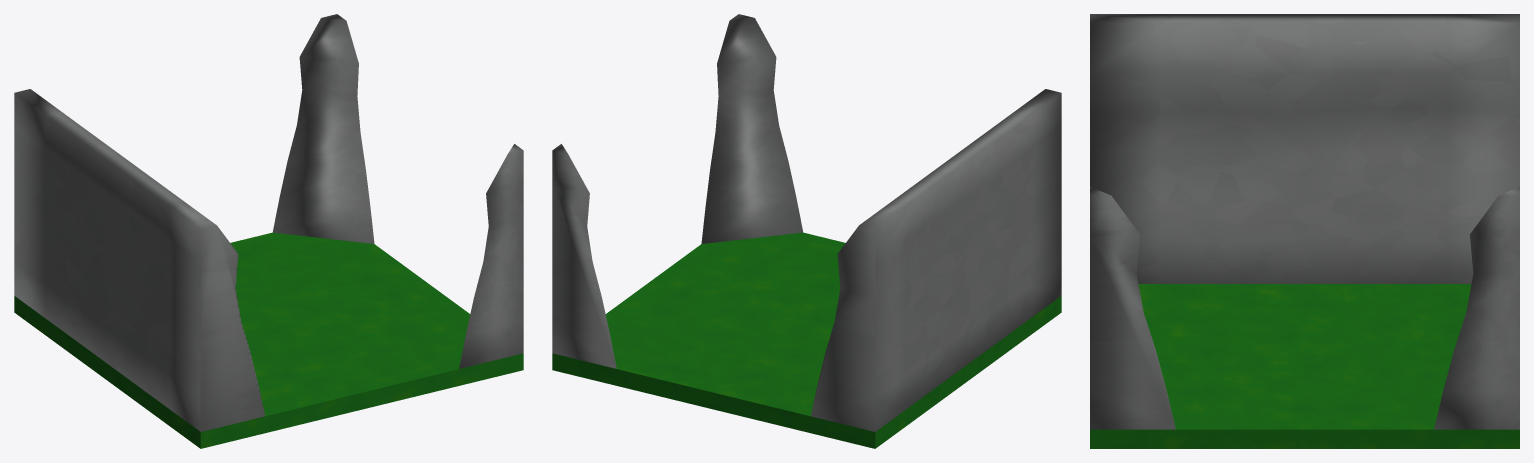
File: tRoom.glb
3 views of the same model, side by side, from view 1: azimuth 30°, elevation 25°; view 2: azimuth 150°, elevation 25°; view 3: azimuth 270°, elevation 25° (orthographic). The views are drawn at different scales.
Parts seen in each view (by area): view 1: WallLong.003, Floor.003, CornerInt.001, CornerInt.002; view 2: WallLong.003, Floor.003, CornerInt.002, CornerInt.001; view 3: WallLong.003, Floor.003, CornerInt.001, CornerInt.002.
Part boxes in pixels (x1,y1,x2,y2): WallLong.003: [14, 89, 264, 431]; Floor.003: [14, 232, 523, 448]; CornerInt.001: [272, 14, 374, 243]; CornerInt.002: [459, 144, 523, 368]; WallLong.003: [811, 89, 1061, 431]; Floor.003: [552, 232, 1061, 448]; CornerInt.002: [701, 14, 803, 243]; CornerInt.001: [552, 144, 616, 368]; WallLong.003: [1090, 14, 1519, 283]; Floor.003: [1090, 284, 1519, 448]; CornerInt.001: [1434, 186, 1519, 429]; CornerInt.002: [1090, 186, 1175, 429].
Bounding box in the file's own units: 10 × 6.5 × 10.
2 materials, 2 textured.
